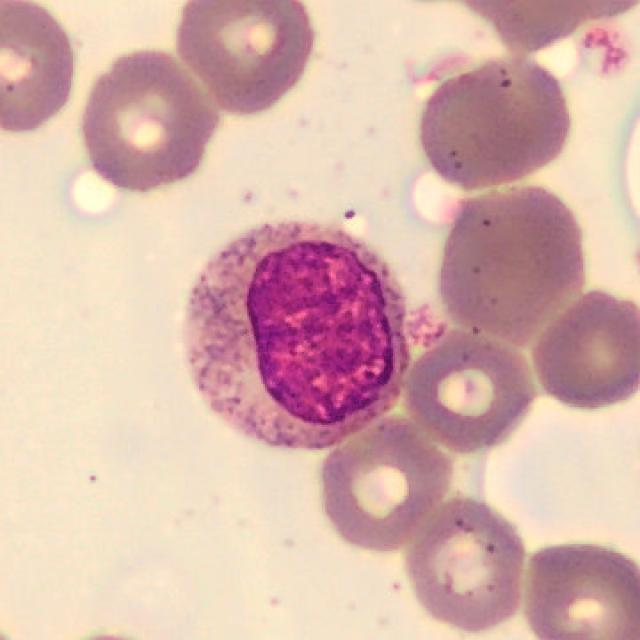Mielocito: (184, 220, 411, 450)
